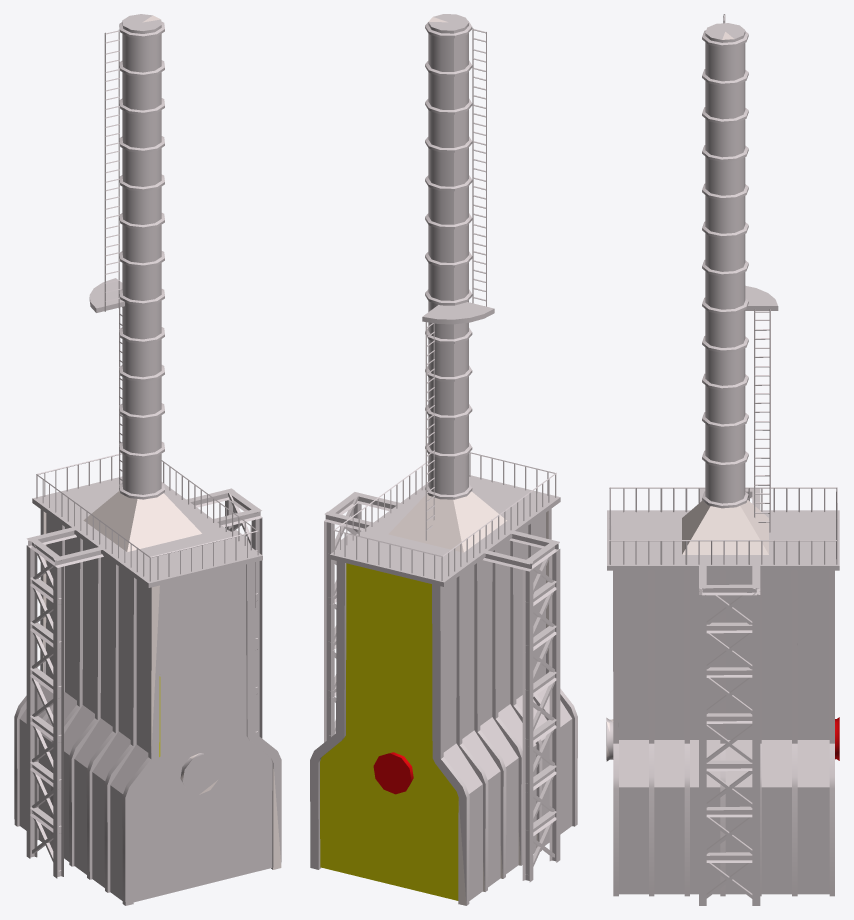
Rendered from furnace.glb.
3 renders of one model, left to right at view 1: azimuth 30°, elevation 25°; view 2: azimuth 150°, elevation 25°; view 3: azimuth 270°, elevation 25°, orthographic.
Visible parts, largest first — view 1: 000-0-0.003; view 2: 000-0-0.003; view 3: 000-0-0.003.
Boxes of the visible parts, x1,y1,x2,y2 form: 000-0-0.003: (14,14,281,905); 000-0-0.003: (310,14,577,905); 000-0-0.003: (606,14,839,905).
Size of the model in its own units: 11.45 by 43.96 by 11.28.
